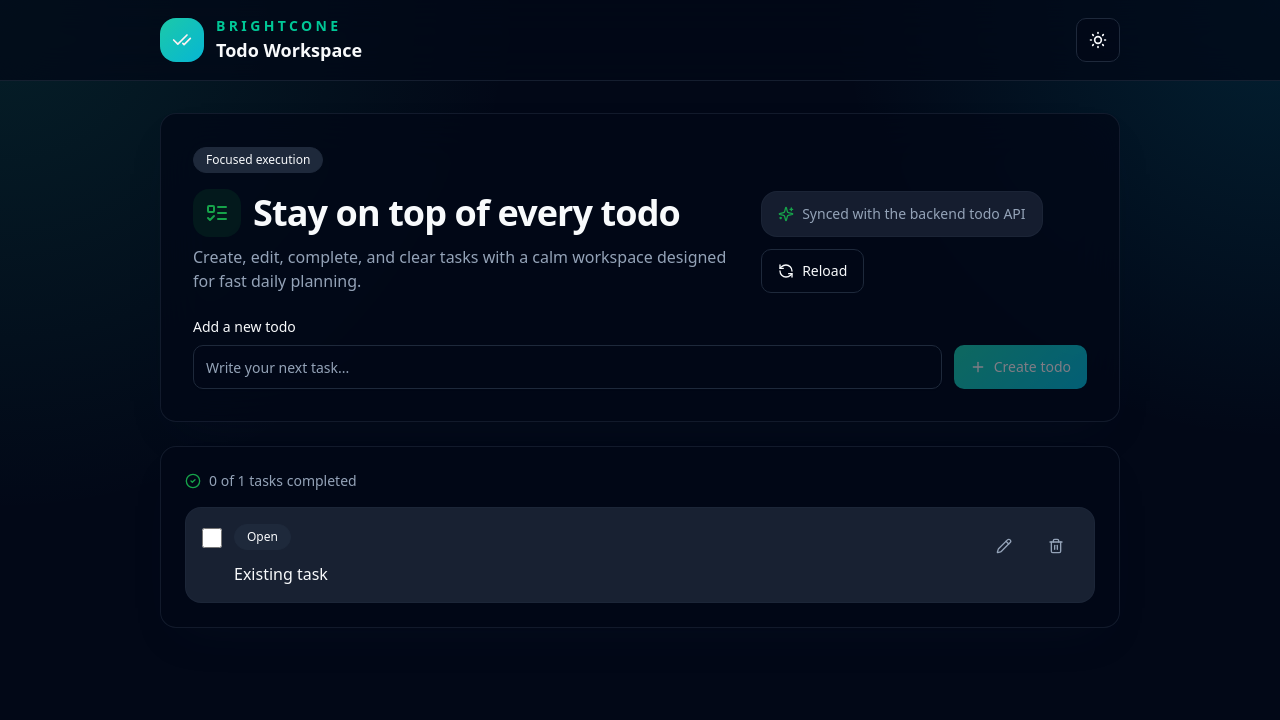
Test: App › renders todos from the API, toggles theme, and refreshes after creating a new todo
Check: the text "Existing task" is shown, box x1=234 y1=563 x2=328 y2=585
Click the button named "switch to light mode" at coordinates (1098, 40), box x1=1076 y1=18 x2=1120 y2=62
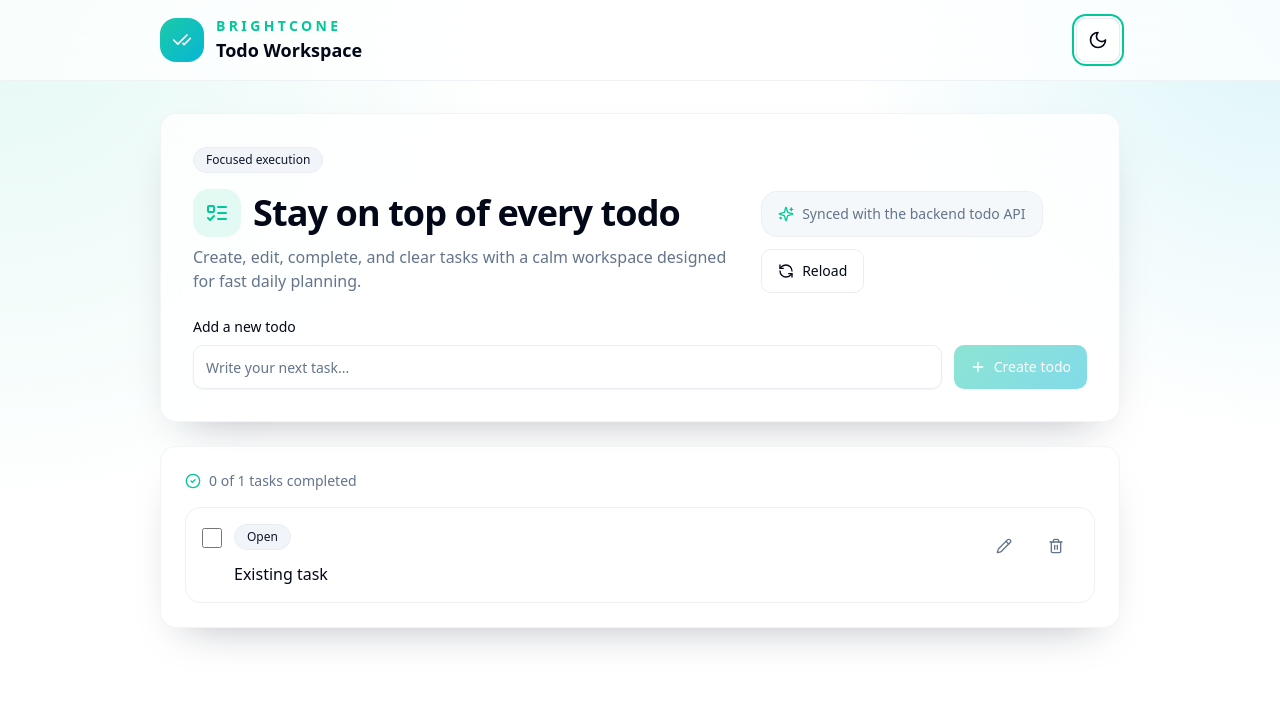
Type "New task" into the field labelled "Add a new todo" at coordinates (567, 367), box x1=193 y1=345 x2=942 y2=389
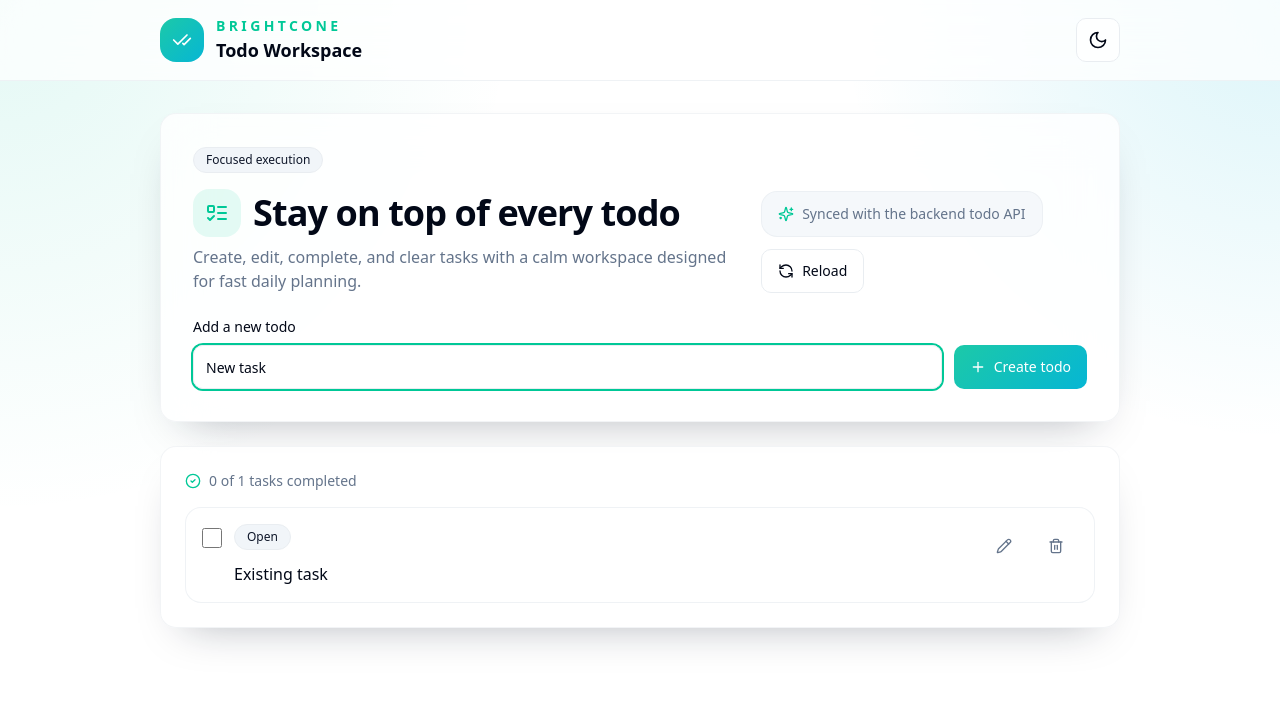
Click the button "Create todo" at coordinates (1020, 367), box x1=954 y1=345 x2=1087 y2=389
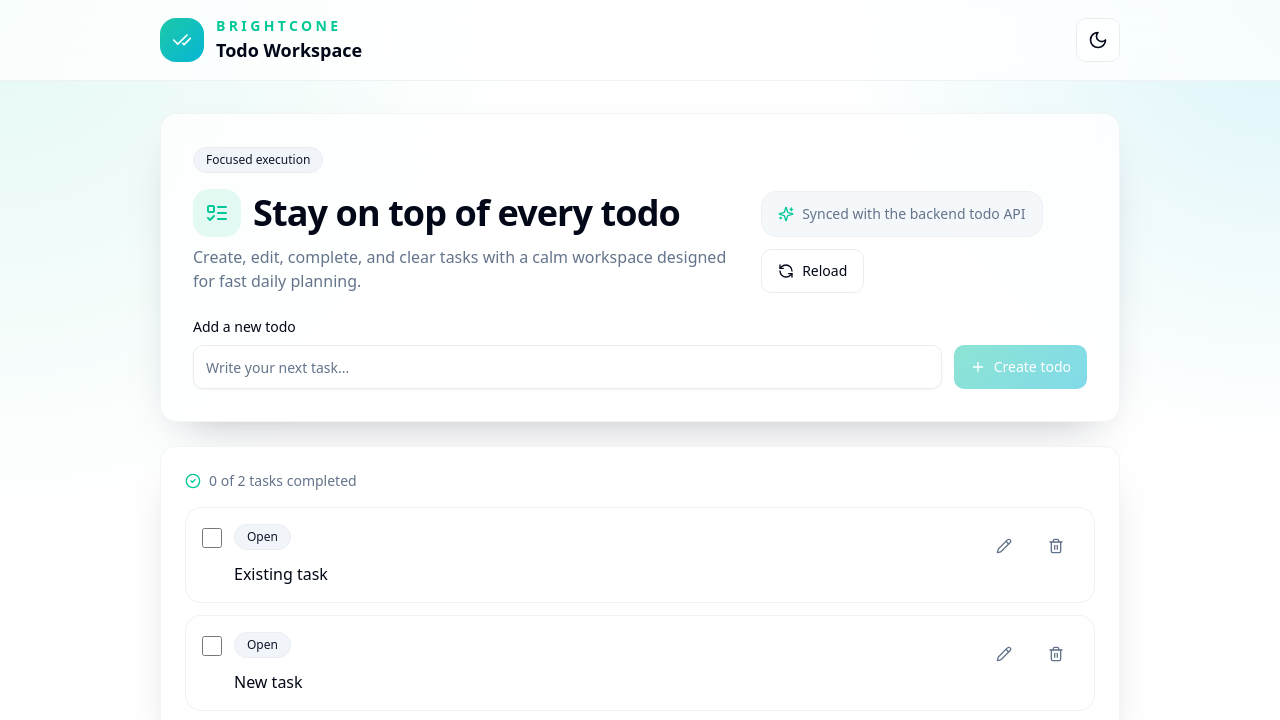
Check: the text "New task" is shown, box x1=234 y1=671 x2=303 y2=693
